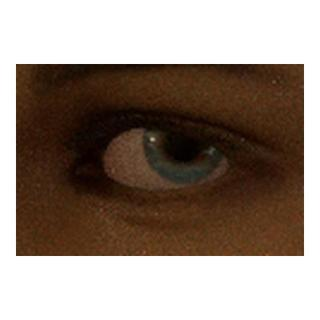pupil: (165, 123, 203, 160)
